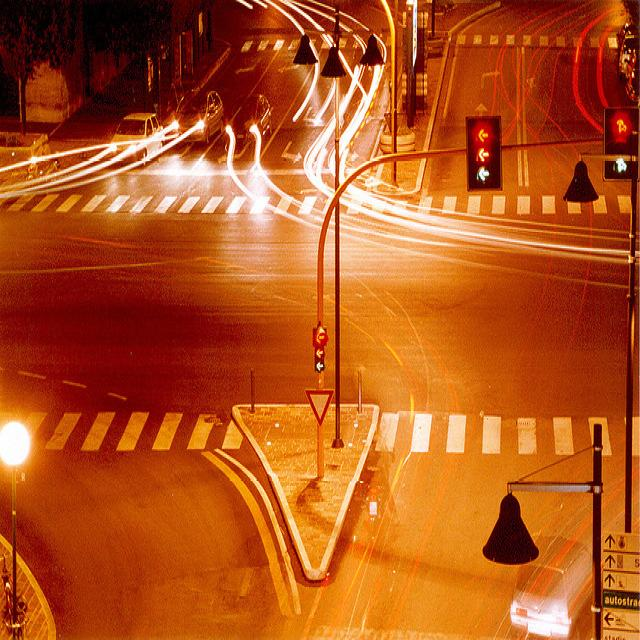Vehicle: (510, 533, 592, 640), (169, 88, 224, 146), (217, 94, 276, 142), (110, 112, 162, 166)
